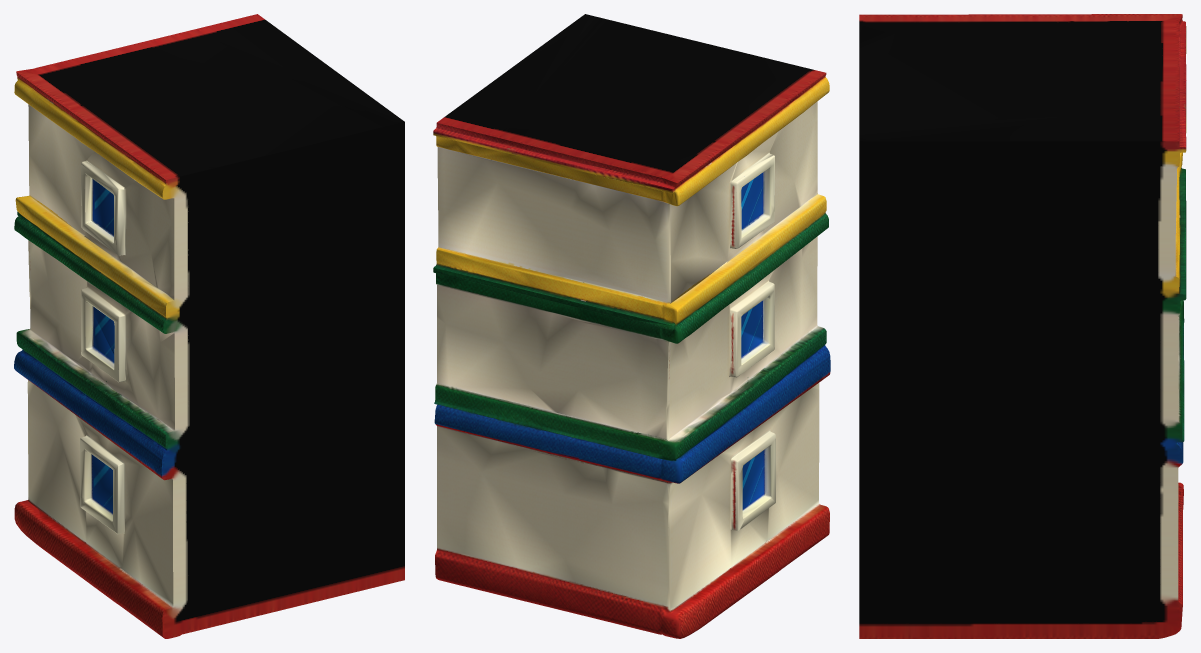
Rendered from 3-ground-floor-back-left.fbx.
3 renders of one model, left to right at view 1: azimuth 30°, elevation 25°; view 2: azimuth 150°, elevation 25°; view 3: azimuth 270°, elevation 25°, orthographic. The views are drawn at different scales.
Parts seen in each view (by area): view 1: ground-floor-back-left; view 2: ground-floor-back-left; view 3: ground-floor-back-left.
Boxes of the visible parts, x1,y1,x2,y2 form: ground-floor-back-left: (14, 14, 404, 638); ground-floor-back-left: (433, 14, 830, 638); ground-floor-back-left: (859, 14, 1186, 638).
Size of the model in its own units: 5045 by 9106 by 5410.
1 material, 1 textured.
